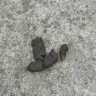Dog: (27, 37, 68, 72)
